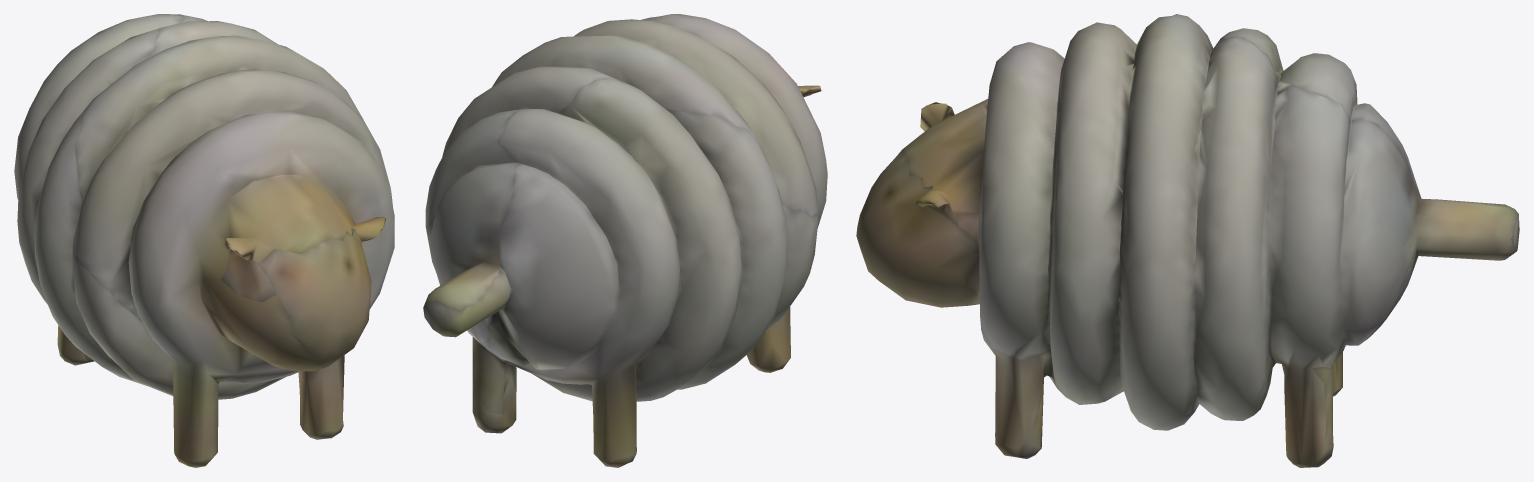
The model's file is LACING_SHEEP-medium.glb.
3 views of the same model, side by side, from view 1: azimuth 30°, elevation 25°; view 2: azimuth 150°, elevation 25°; view 3: azimuth 270°, elevation 25° (orthographic). The views are drawn at different scales.
Parts seen in each view (by area): view 1: LACING_SHEEP; view 2: LACING_SHEEP; view 3: LACING_SHEEP.
Boxes of the visible parts, x1=… form: LACING_SHEEP: x1=14, y1=14, x2=394, y2=467; LACING_SHEEP: x1=423, y1=14, x2=827, y2=467; LACING_SHEEP: x1=856, y1=14, x2=1519, y2=467.
Size of the model in its own units: 0.0849 by 0.0889 by 0.1356.
1 material, 1 textured.
